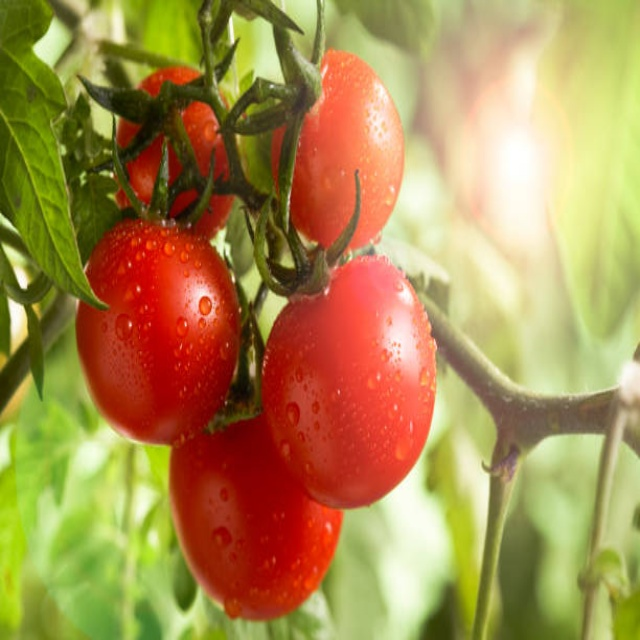tomato: (263, 254, 441, 515), (165, 391, 344, 622), (77, 220, 247, 440), (246, 54, 405, 263), (115, 65, 236, 243)
